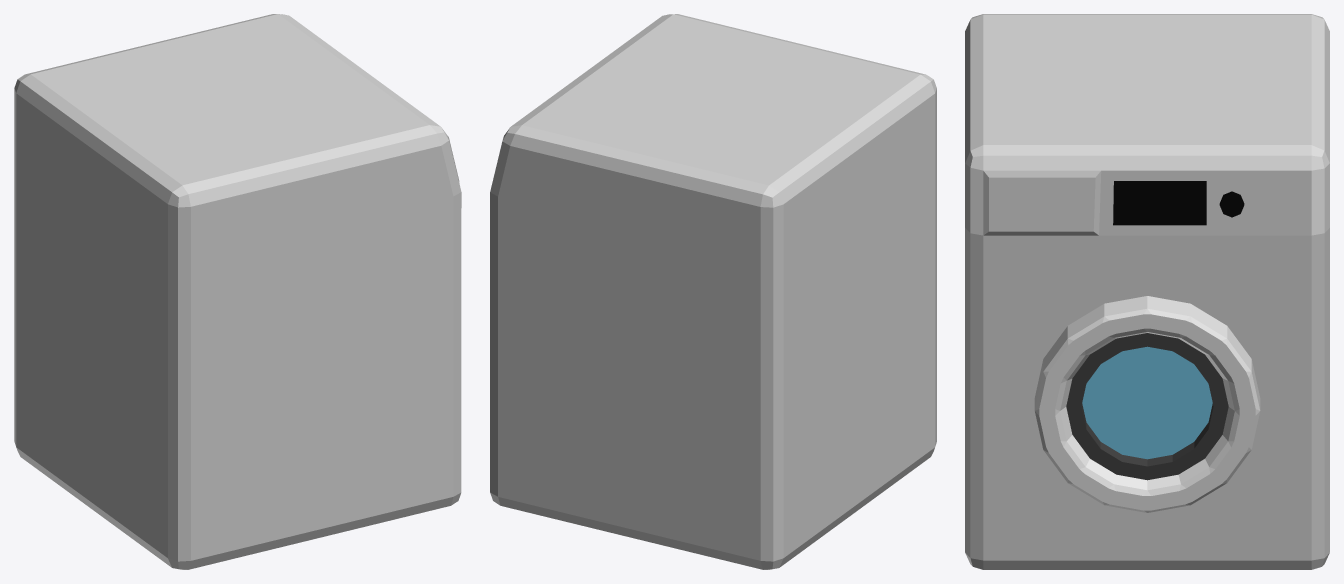
File: washer.fbx
3 views of the same model, side by side, from view 1: azimuth 30°, elevation 25°; view 2: azimuth 150°, elevation 25°; view 3: azimuth 270°, elevation 25° (orthographic). The views are drawn at different scales.
Visible parts, largest first — view 1: Cube; view 2: Cube; view 3: Cube, Cylinder.
Part boxes in pixels (bbox=[...]): Cube: bbox=[14, 14, 461, 569]; Cube: bbox=[490, 14, 936, 569]; Cube: bbox=[965, 14, 1329, 569]; Cylinder: bbox=[1034, 296, 1260, 512].
Bounding box in the file's own units: 219 × 252 × 200.
